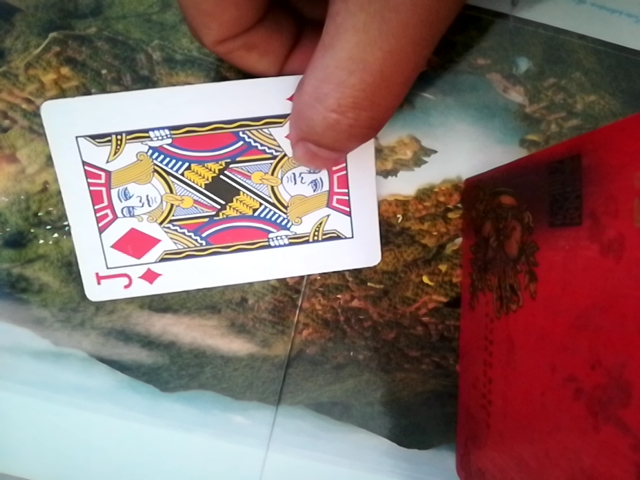fk j: (32, 64, 379, 302)
